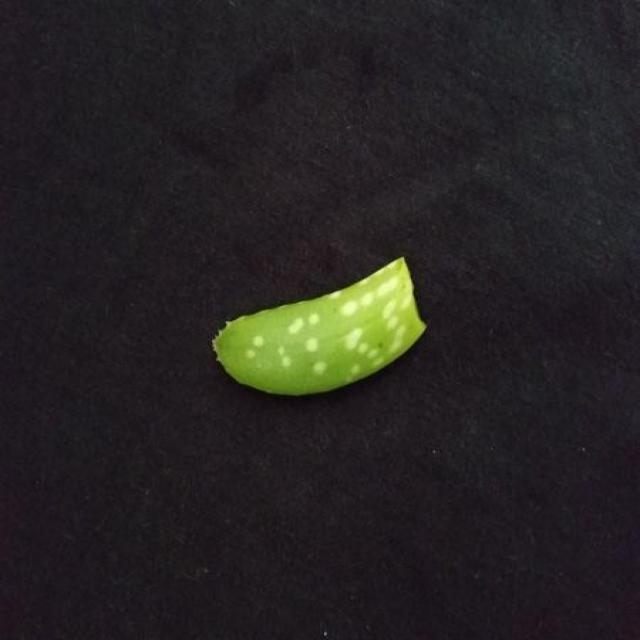alovera: (2, 0, 638, 639), (213, 258, 425, 394)
